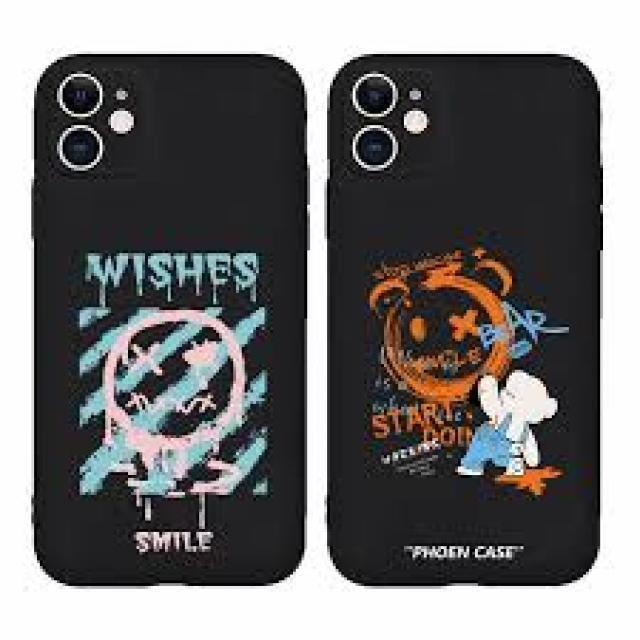smart phone: (33, 35, 312, 610), (332, 32, 602, 600)
